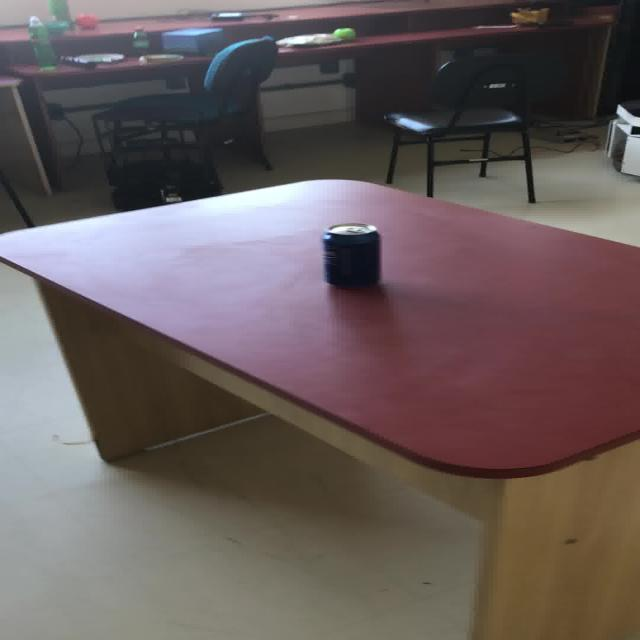tonic: (320, 222, 380, 286), (26, 15, 57, 70), (130, 25, 150, 55)
